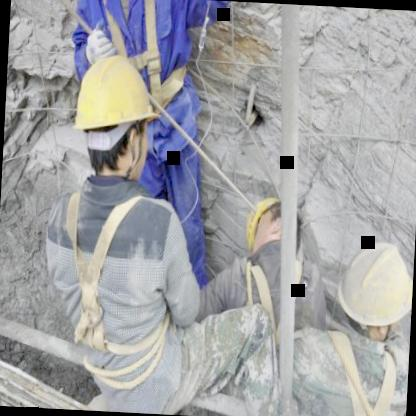helmet: (72, 51, 158, 178), (334, 240, 414, 347), (238, 193, 300, 263)
